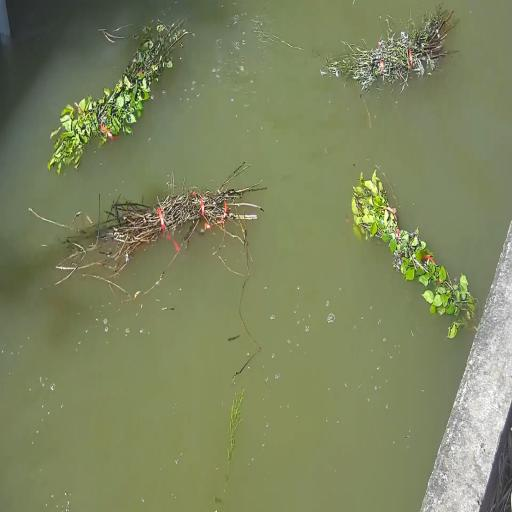twig: (43, 29, 197, 173), (342, 161, 476, 325), (83, 159, 249, 264), (328, 10, 456, 106)
